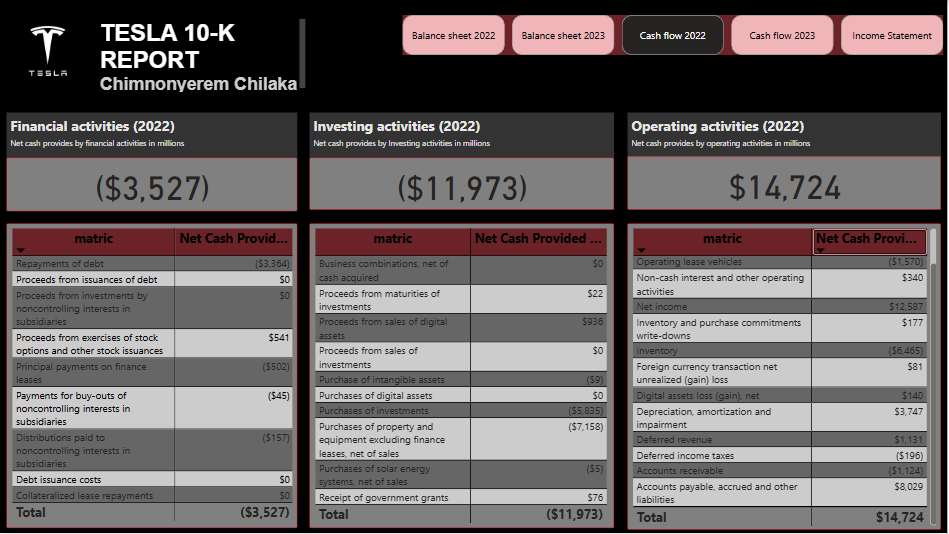

What the dashboard file says about the page in this screenshot:
{"tool":"powerbi","page":{"name":"Cash flow 2022","canvas":[1280,720],"ordinal":2},"visuals":[{"type":"image","box":[0,0,132.4,137.9],"z":0},{"type":"textbox","box":[132.4,19.3,286.9,107.6],"z":1000},{"type":"card","fields":{"Values":["cash_flow_statement.Net Cash Provided by Financing Activities 2022"]},"box":[10.1,212.7,392.9,72.9],"z":2000},{"type":"textbox","box":[10.1,151.9,392.9,60.8],"z":3000},{"type":"textbox","box":[419.2,151.9,411.1,60.8],"z":4000},{"type":"textbox","box":[848.6,151.9,423.3,60.8],"z":5000},{"type":"card","fields":{"Values":["cash_flow_statement.Net Cash Provided by Investing activities 2022"]},"box":[419.2,212.7,411.1,70.9],"z":6000},{"type":"card","fields":{"Values":["cash_flow_statement.Net Cash Provided by Operating activities 2022"]},"box":[848.6,210.6,423.3,72.9],"z":7000},{"type":"tableEx","fields":{"Values":["cash_flow_statement.matric","cash_flow_statement.Net Cash Provided by Financing Activities 2022"]},"box":[10.1,301.8,392.9,411.1],"z":8000},{"type":"pageNavigator","box":[544,20,730,54],"z":9000},{"type":"tableEx","fields":{"Values":["cash_flow_statement.matric","cash_flow_statement.Net Cash Provided by Investing activities 2022"]},"box":[419.2,301.8,411.1,411.1],"z":10000},{"type":"tableEx","fields":{"Values":["cash_flow_statement.matric","cash_flow_statement.Net Cash Provided by Operating activities 2022"]},"box":[848.6,301.8,423.3,413.2],"z":11000}]}

Visuals, with their boxes in screenshot pixels (x1, y1, x2, y2), scaled from the page's 1280x720 canvas onto the 949x534 screenshot:
image: box=[0, 0, 98, 102]
textbox: box=[98, 14, 311, 94]
card - cash_flow_statement.Net Cash Provided by Financing Activities 2022: box=[7, 158, 299, 212]
textbox: box=[7, 113, 299, 158]
textbox: box=[311, 113, 616, 158]
textbox: box=[629, 113, 943, 158]
card - cash_flow_statement.Net Cash Provided by Investing activities 2022: box=[311, 158, 616, 210]
card - cash_flow_statement.Net Cash Provided by Operating activities 2022: box=[629, 156, 943, 210]
tableEx - cash_flow_statement.matric x cash_flow_statement.Net Cash Provided by Financing Activities 2022: box=[7, 224, 299, 529]
pageNavigator: box=[403, 15, 945, 55]
tableEx - cash_flow_statement.matric x cash_flow_statement.Net Cash Provided by Investing activities 2022: box=[311, 224, 616, 529]
tableEx - cash_flow_statement.matric x cash_flow_statement.Net Cash Provided by Operating activities 2022: box=[629, 224, 943, 530]
